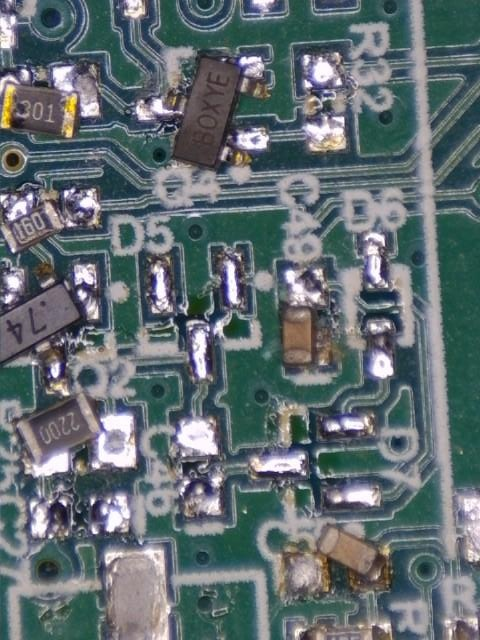pcb_defect: (135, 55, 271, 172), (0, 261, 99, 393), (14, 390, 138, 475), (283, 524, 389, 596), (0, 64, 101, 138), (0, 189, 99, 254), (282, 262, 332, 369)
